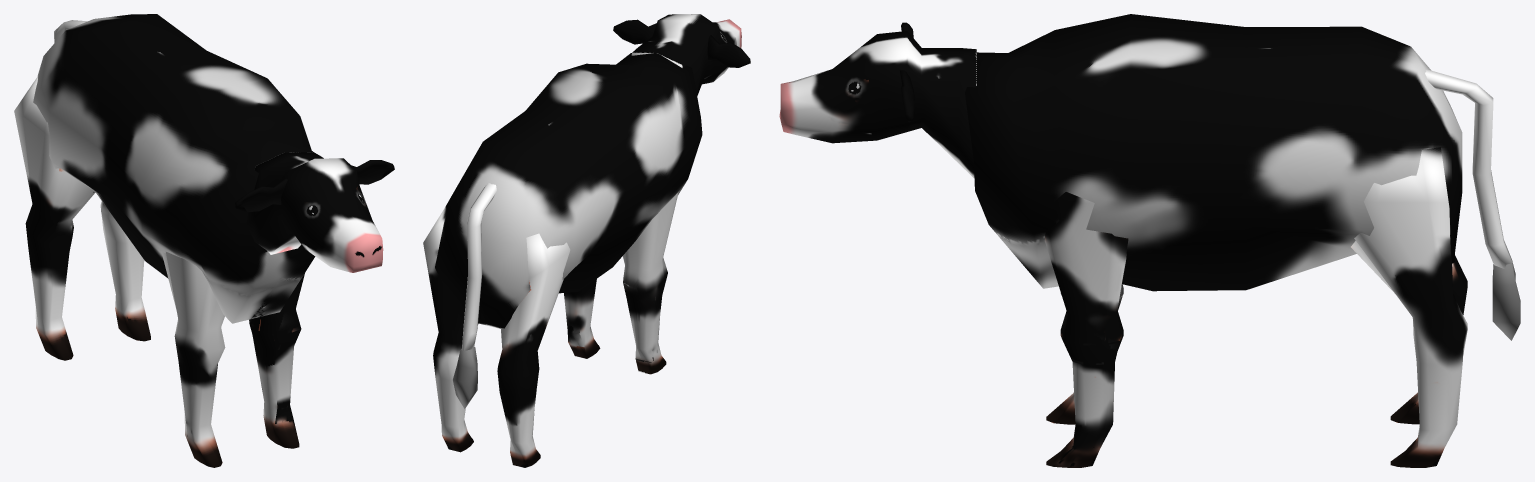
Rendered from black_cow.fbx.
The picture shows the model from 3 angles, left to right: view 1: azimuth 30°, elevation 25°; view 2: azimuth 150°, elevation 25°; view 3: azimuth 270°, elevation 25°; orthographic projection. The views are drawn at different scales.
Parts seen in each view (by area): view 1: Cube.001, Cube, back leg 2, front leg 2, front leg 1, back leg 1, ear2, ear1; view 2: Cube.001, back leg 2, front leg 2, back leg 1, Cube, tail, front leg 1, tail end, ear2, ear1; view 3: Cube.001, back leg 1, Cube, front leg 1, tail, tail end, back leg 2.
Boxes of the visible parts, x1,y1,x2,y2 form: Cube.001: [33, 14, 315, 323]; Cube: [246, 152, 383, 272]; back leg 2: [14, 76, 94, 360]; front leg 2: [161, 251, 225, 467]; front leg 1: [249, 273, 304, 448]; back leg 1: [100, 201, 150, 341]; ear2: [234, 178, 287, 212]; ear1: [351, 160, 394, 184]; Cube.001: [435, 53, 702, 328]; back leg 2: [497, 233, 570, 467]; front leg 2: [623, 191, 678, 374]; back leg 1: [423, 206, 478, 452]; Cube: [631, 14, 741, 95]; tail: [461, 182, 496, 350]; front leg 1: [564, 279, 600, 358]; tail end: [453, 346, 477, 408]; ear2: [707, 35, 750, 67]; ear1: [613, 19, 656, 44]; Cube.001: [965, 14, 1462, 291]; back leg 1: [1351, 147, 1467, 467]; Cube: [779, 31, 976, 178]; front leg 1: [1045, 192, 1128, 467]; tail: [1425, 69, 1512, 268]; tail end: [1492, 262, 1520, 340]; back leg 2: [1390, 255, 1467, 424].
Size of the model in its own units: 320 by 659 by 1105.
